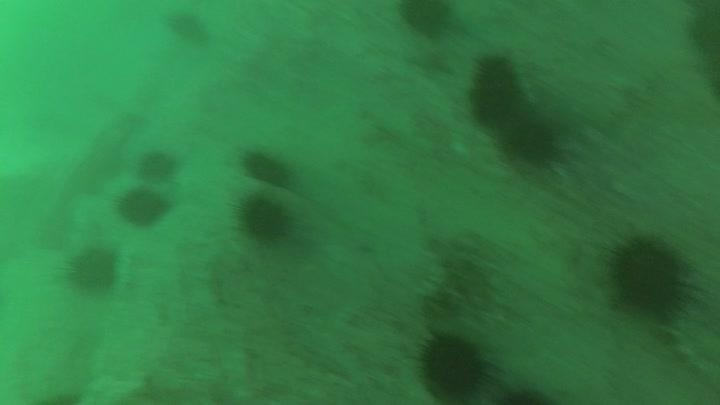echinus: (604, 231, 693, 319), (414, 328, 492, 402), (466, 53, 523, 127), (501, 115, 562, 168), (235, 192, 293, 245), (63, 244, 121, 295), (115, 185, 171, 229), (240, 146, 295, 189), (683, 1, 720, 62), (397, 1, 455, 39), (163, 8, 211, 47), (135, 147, 180, 183)
holothurian: (412, 228, 507, 315)
